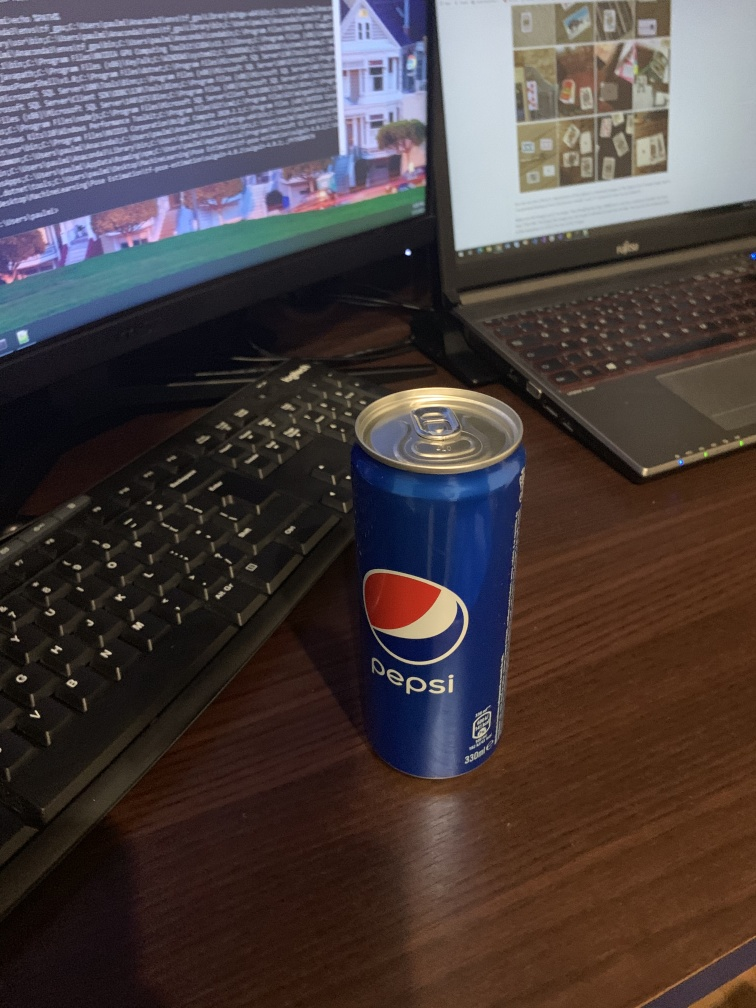pepsi: (343, 385, 533, 802)
